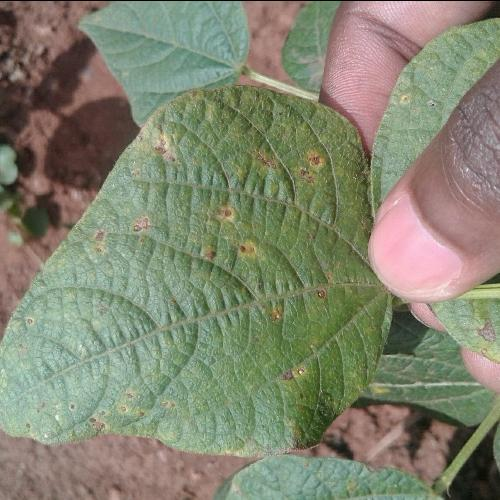hawar: (34, 312, 188, 472), (155, 120, 293, 278), (52, 159, 134, 282)
